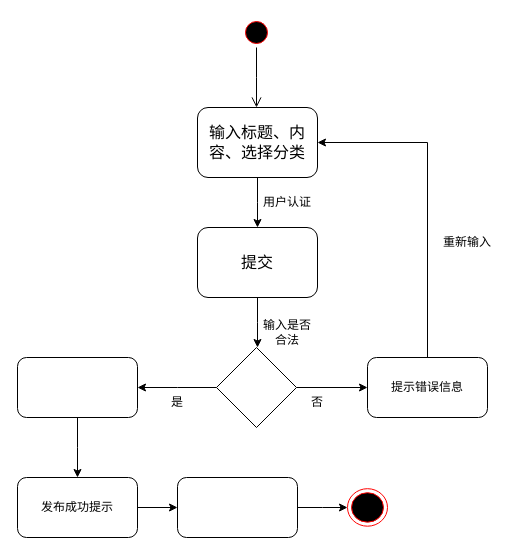
Some shapes in this 515 by 555 pixel diagram are drawn without their labels. Each missing label, with the centre of its shape:
"保存帖子数据" goes at (77,387).
"跳转论坛首页" goes at (237,507).
